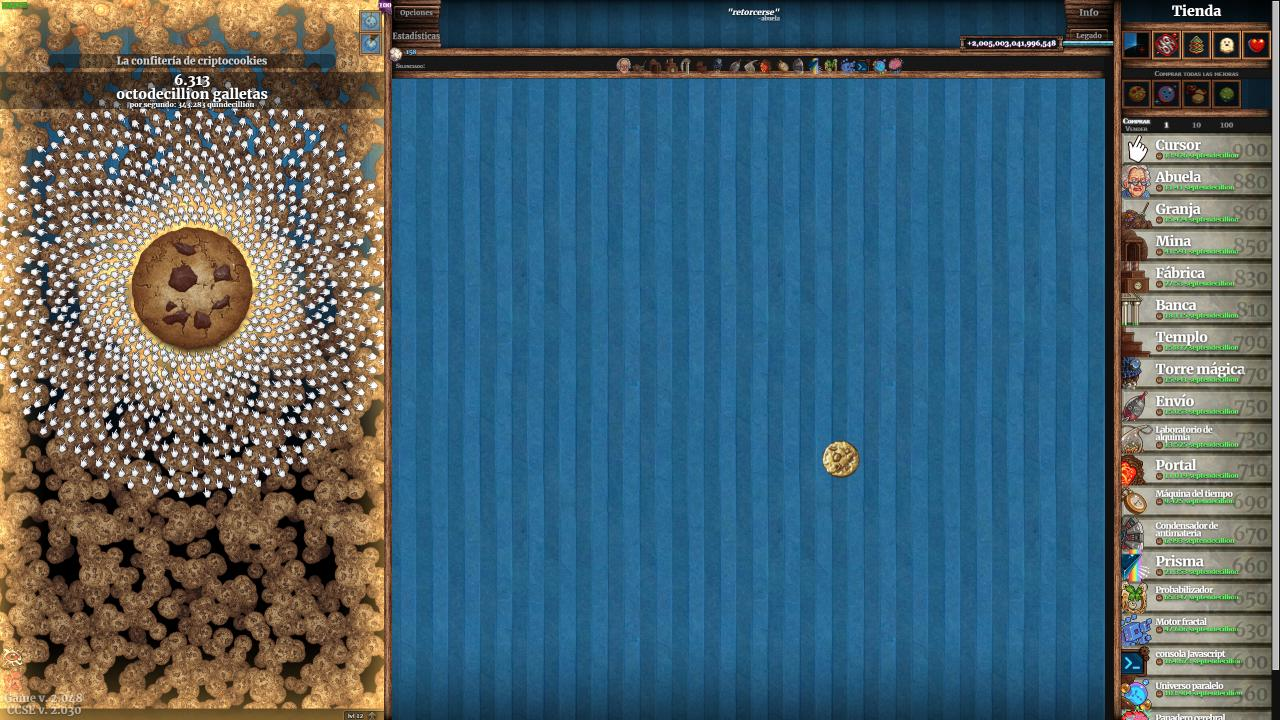GoldenCookie: (821, 439, 861, 480)
